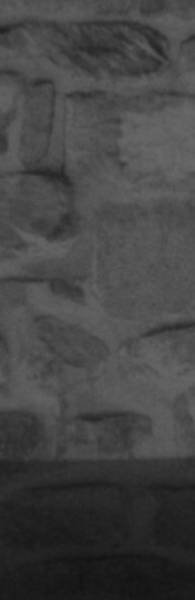water: (0, 460, 195, 600)
